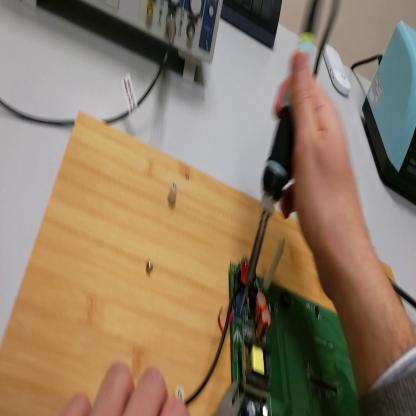hand: (271, 47, 365, 280), (61, 359, 187, 414)
low voltage board: (184, 253, 357, 416)
oscilloscope: (28, 5, 225, 82)
welder probe tip: (238, 2, 312, 314)
welder station: (364, 19, 415, 203)
working area: (2, 112, 407, 412)
